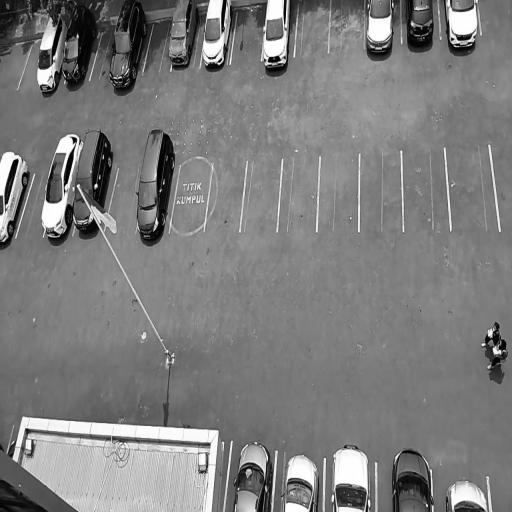Car: (131, 120, 178, 245), (71, 123, 116, 238), (38, 129, 84, 239), (107, 0, 150, 90), (0, 141, 33, 254), (61, 4, 99, 88), (232, 438, 274, 512), (329, 443, 374, 512), (389, 444, 434, 512), (34, 9, 68, 99), (165, 1, 201, 72), (279, 451, 320, 512), (199, 0, 234, 70), (441, 0, 481, 58), (261, 0, 292, 73), (402, 0, 439, 50), (366, 0, 395, 59), (444, 478, 490, 512)
Space Available: (445, 144, 500, 231), (402, 148, 450, 232), (359, 149, 403, 234), (317, 153, 360, 232), (277, 158, 320, 231), (241, 159, 283, 232), (170, 162, 213, 233), (204, 162, 247, 231), (104, 166, 141, 233), (16, 172, 49, 238), (294, 0, 330, 57), (490, 144, 512, 233), (231, 5, 265, 62), (329, 0, 365, 53), (144, 19, 173, 73), (90, 23, 115, 79), (18, 37, 42, 88), (478, 0, 512, 35)
